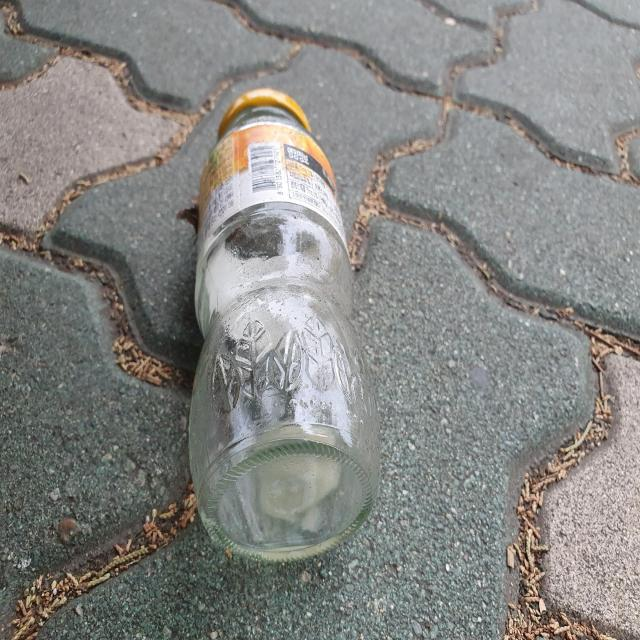glass: (189, 88, 380, 561)
